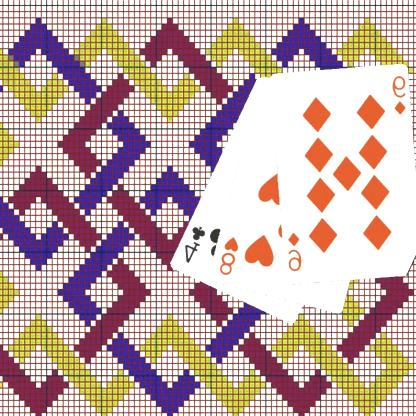4C: (183, 223, 209, 265)
8H: (218, 234, 242, 277)
9D: (391, 73, 409, 117), (287, 230, 304, 273)
